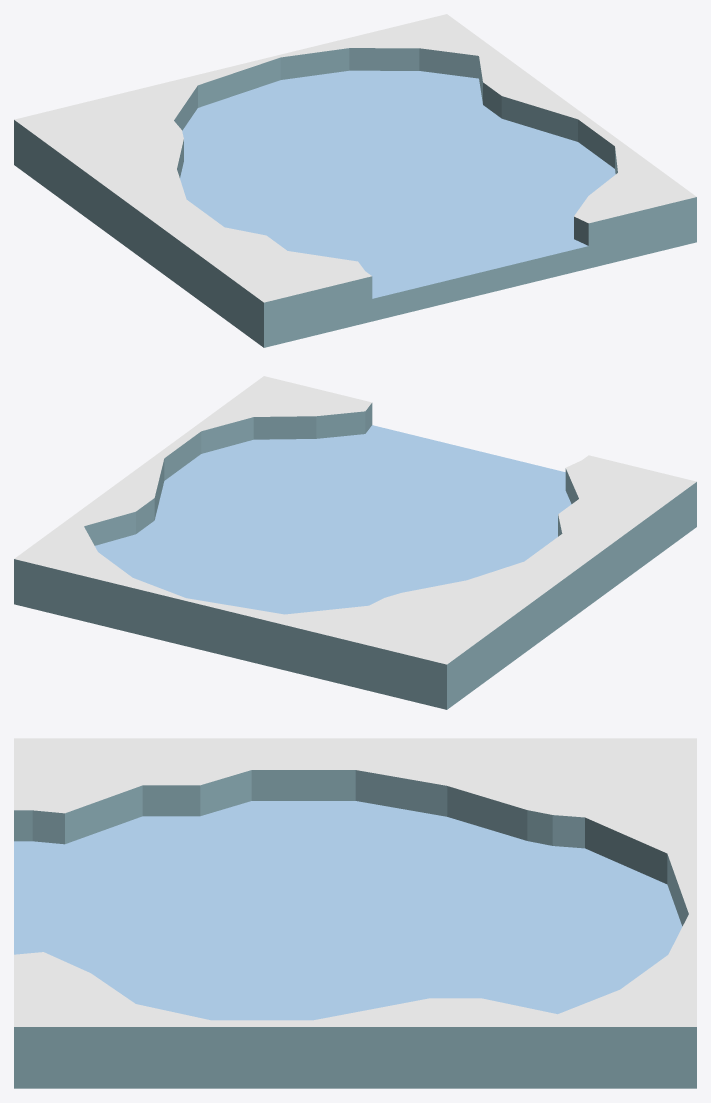
The model's file is Terrain_Modular_Tiles_Snow_Ice_River_End_01.fbx.
3 views of the same model, one above another, from view 1: azimuth 30°, elevation 25°; view 2: azimuth 150°, elevation 25°; view 3: azimuth 270°, elevation 25° (orthographic). The views are drawn at different scales.
Visible parts, largest first — view 1: Terrain_Modular_Tiles_Snow_Ice_River_End_01; view 2: Terrain_Modular_Tiles_Snow_Ice_River_End_01; view 3: Terrain_Modular_Tiles_Snow_Ice_River_End_01.
Part boxes in pixels (<box>): Terrain_Modular_Tiles_Snow_Ice_River_End_01: <box>14,14,696,347</box>; Terrain_Modular_Tiles_Snow_Ice_River_End_01: <box>14,376,696,709</box>; Terrain_Modular_Tiles_Snow_Ice_River_End_01: <box>14,738,696,1088</box>.
Size of the model in its own units: 3000 by 300 by 3000.
